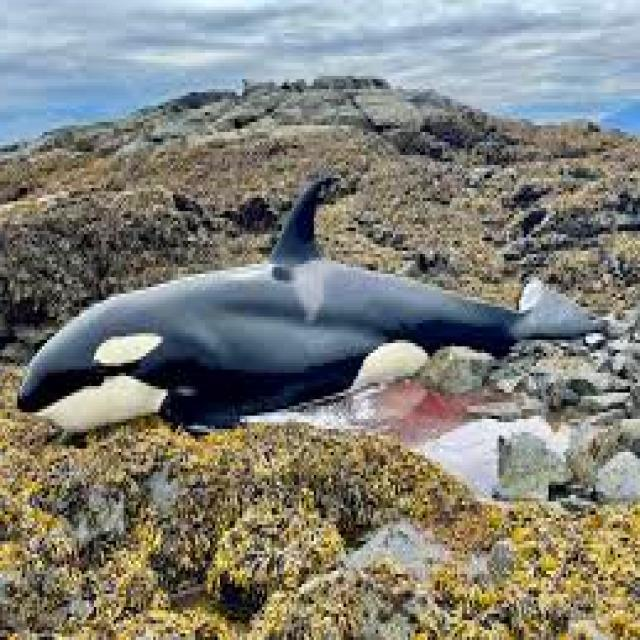whale: (20, 178, 605, 432)
